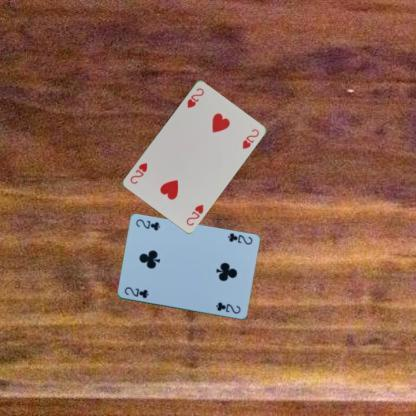2c: (224, 230, 254, 247), (122, 284, 150, 300)
2h: (184, 85, 205, 109), (184, 201, 204, 226)
